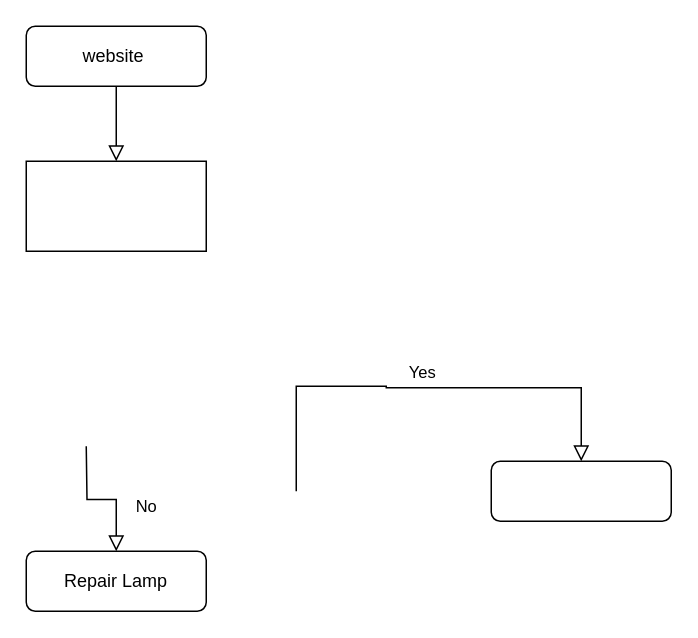
This 698x638 diagram has some shape labels left out. Here are the shapes that lost their labels. From the top down, the centre of each, then its label:
At [115,205]: "Clous storage 1".
At [580,490]: "Replace Bulb".
